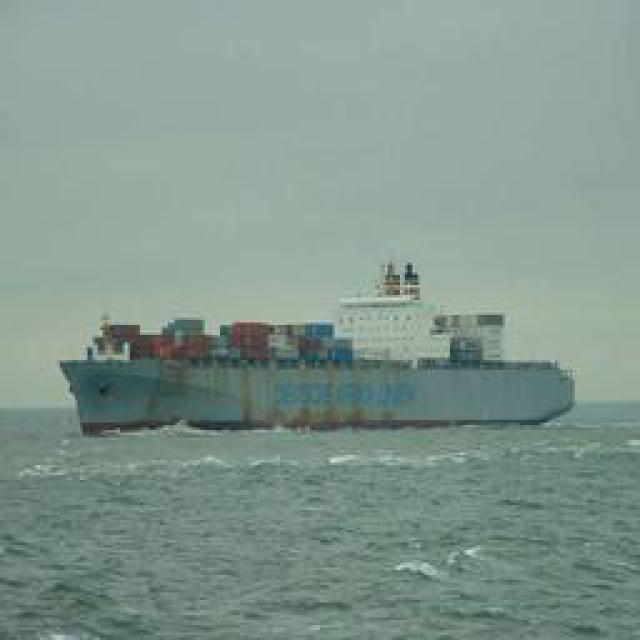Ship: (51, 255, 576, 435)
